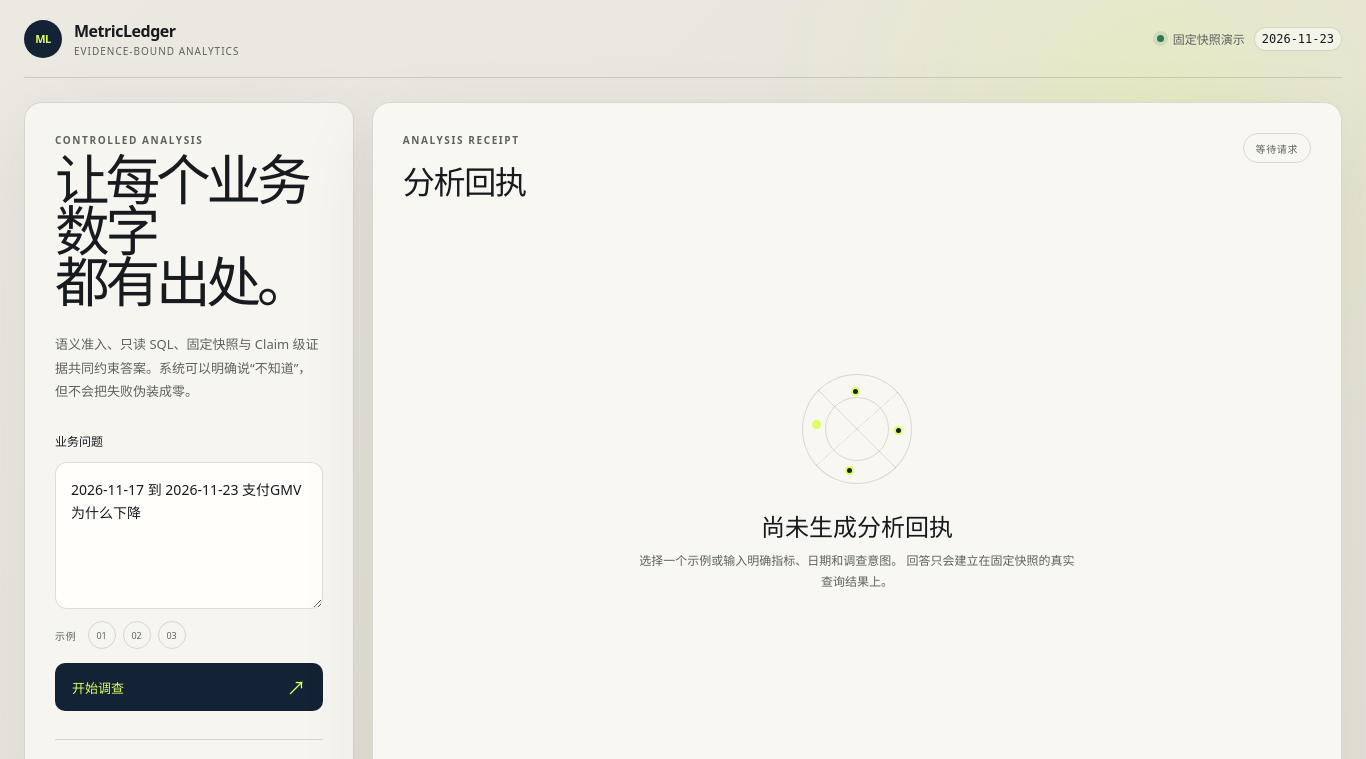
Test: MetricLedger workbench › renders a refusal without rendering answer claims
Click the button "开始调查 ↗".
click(98, 688)  # box x1=55 y1=663 x2=323 y2=711
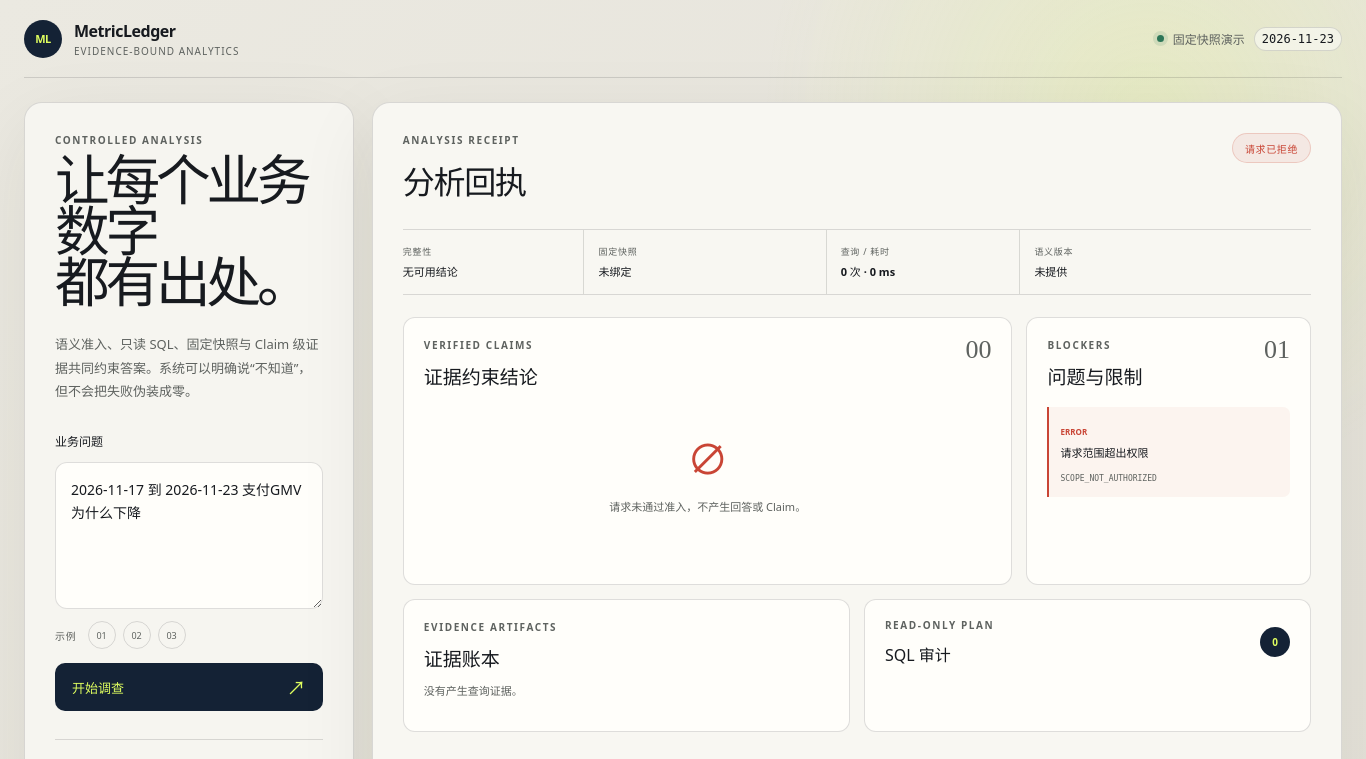
Check: the text "请求范围超出权限" is shown, box x1=1060 y1=445 x2=1148 y2=460
